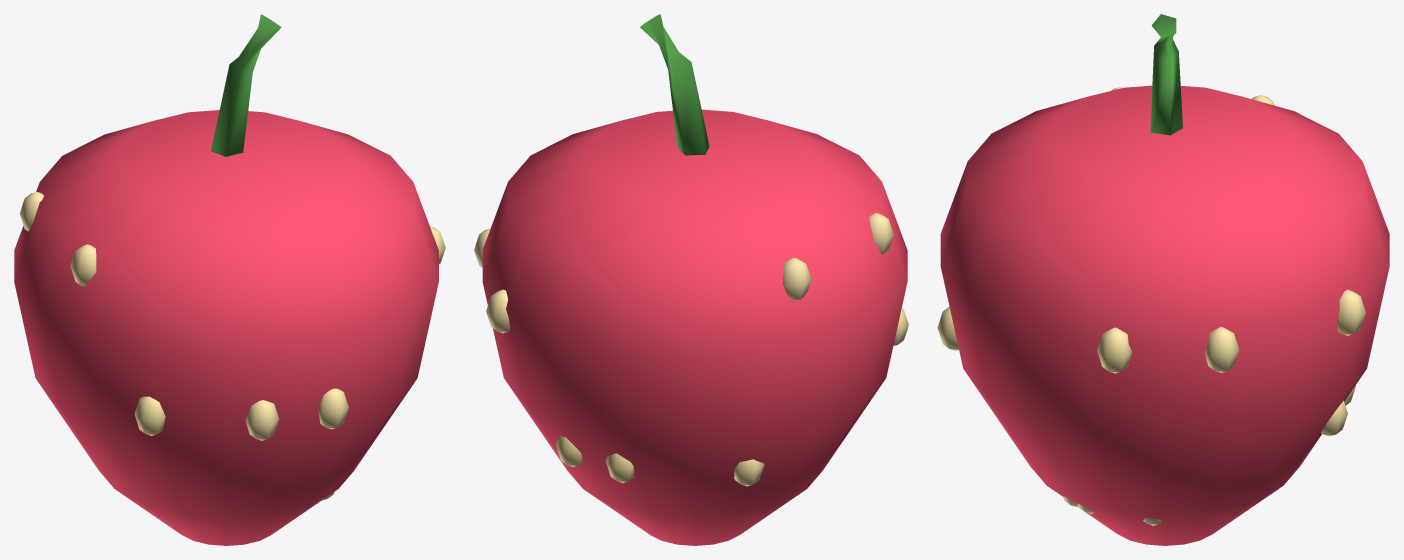
File: morango.glb
3 views of the same model, side by side, from view 1: azimuth 30°, elevation 25°; view 2: azimuth 150°, elevation 25°; view 3: azimuth 270°, elevation 25° (orthographic). The views are drawn at different scales.
Parts seen in each view (by area): view 1: morango; view 2: morango; view 3: morango.
Part boxes in pixels (x1=…): morango: x1=14, y1=14, x2=445, y2=545; morango: x1=474, y1=14, x2=908, y2=545; morango: x1=937, y1=14, x2=1389, y2=545.
Bounding box in the file's own units: 0.1012 × 0.1318 × 0.0992.
